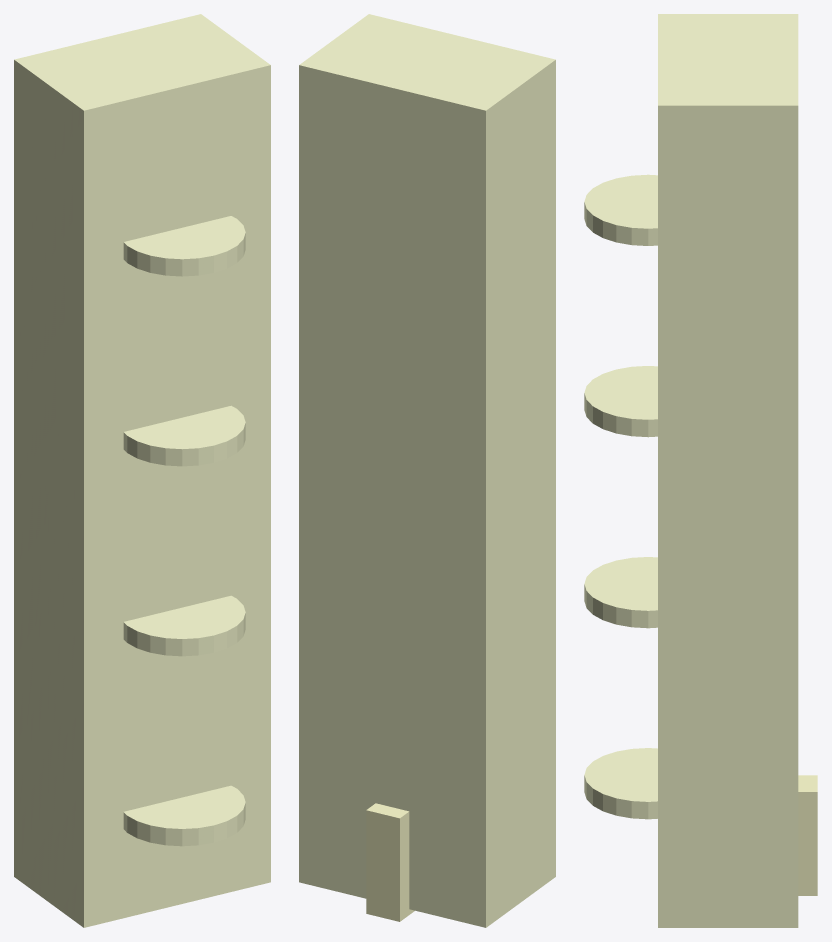
Rendered from signal_protected_turn_4_aspect.glb.
3 renders of one model, left to right at view 1: azimuth 30°, elevation 25°; view 2: azimuth 150°, elevation 25°; view 3: azimuth 270°, elevation 25°, orthographic.
Parts seen in each view (by area): view 1: housing, lens_green, lens_yellow, lens_red, lens_arrow; view 2: housing, bracket; view 3: housing, lens_arrow, lens_green, lens_red, lens_yellow, bracket.
Boxes of the visible parts, <box> form: housing: <box>14,14,270,927</box>; lens_green: <box>123,595,245,656</box>; lens_yellow: <box>123,405,245,466</box>; lens_red: <box>123,216,245,276</box>; lens_arrow: <box>123,785,245,846</box>; housing: <box>299,14,555,927</box>; bracket: <box>366,803,414,921</box>; housing: <box>658,14,798,927</box>; lens_arrow: <box>584,748,657,819</box>; lens_green: <box>584,557,657,628</box>; lens_red: <box>584,174,657,245</box>; lens_yellow: <box>584,366,657,437</box>; bracket: <box>798,775,817,895</box>.
Bounding box in the file's own units: 0.34 × 1.43 × 0.365.
